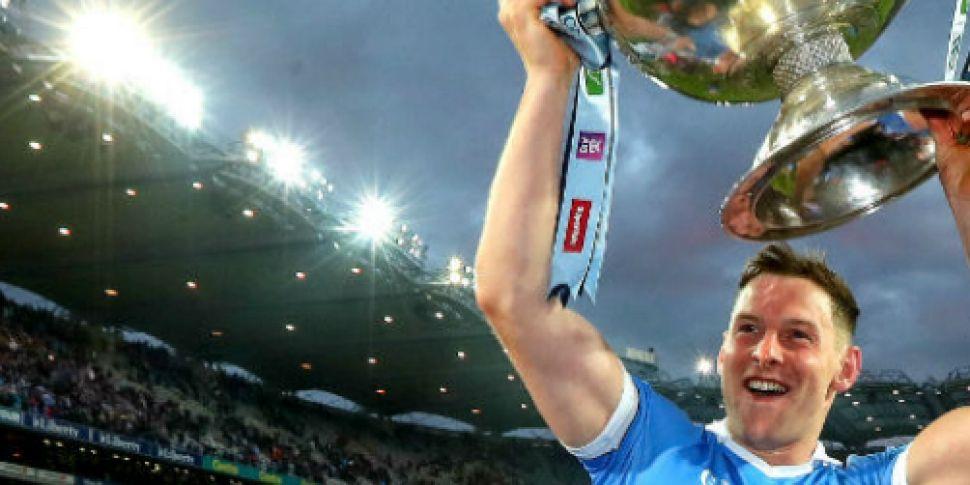player: (493, 185, 953, 479)
